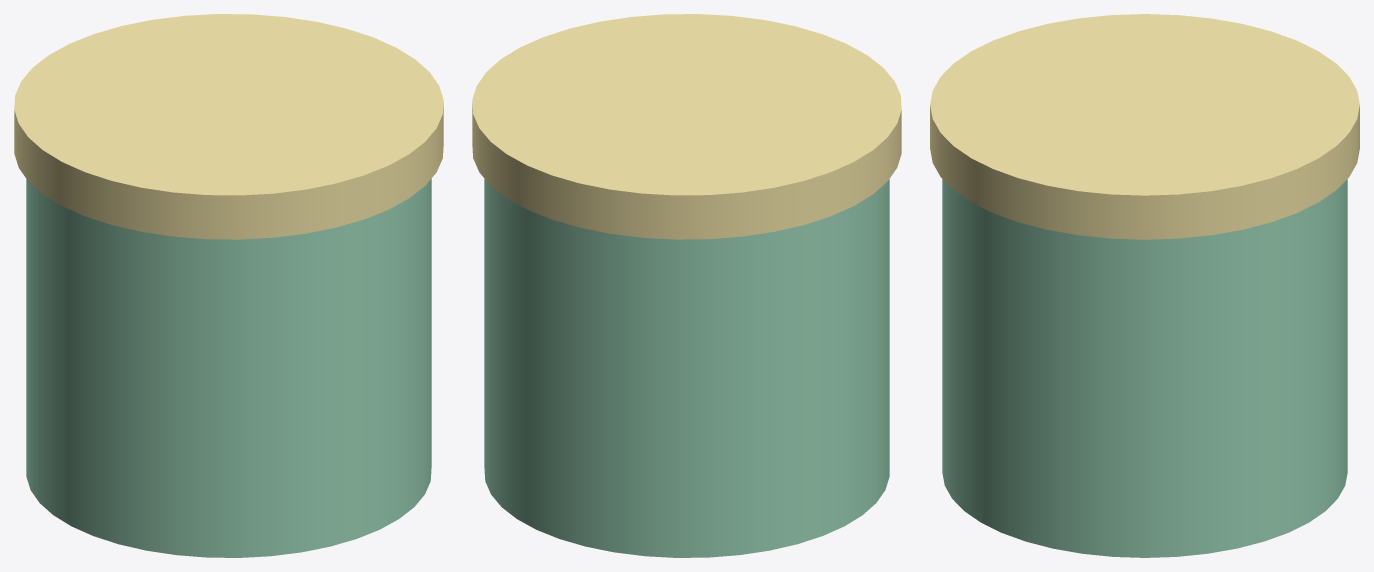
The model's file is sample_tin.glb.
3 renders of one model, left to right at view 1: azimuth 30°, elevation 25°; view 2: azimuth 150°, elevation 25°; view 3: azimuth 270°, elevation 25°, orthographic.
Visible parts, largest first — view 1: sample_tin; view 2: sample_tin; view 3: sample_tin.
Boxes of the visible parts, box(x1,y1,x2,y2) form: sample_tin: box(14, 14, 443, 557); sample_tin: box(472, 14, 901, 557); sample_tin: box(930, 14, 1359, 557).
Bounding box in the file's own units: 1.06 × 1 × 1.06.
